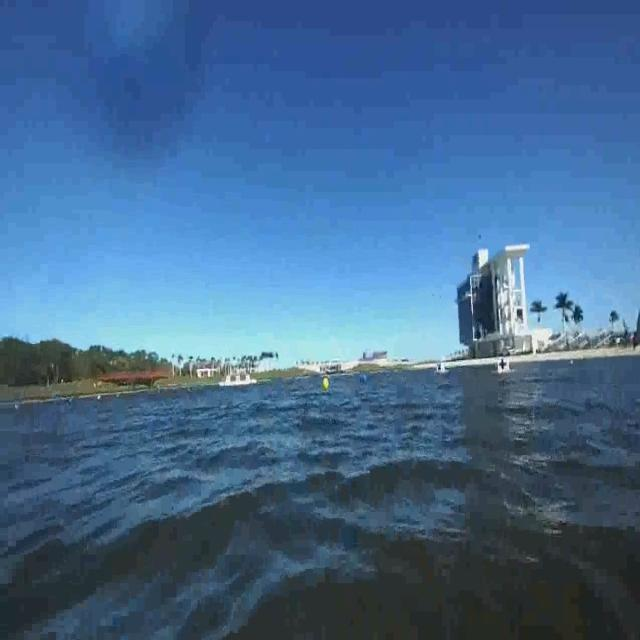blue-buoy: (359, 371, 369, 384)
yellow-buoy: (322, 376, 330, 393)
